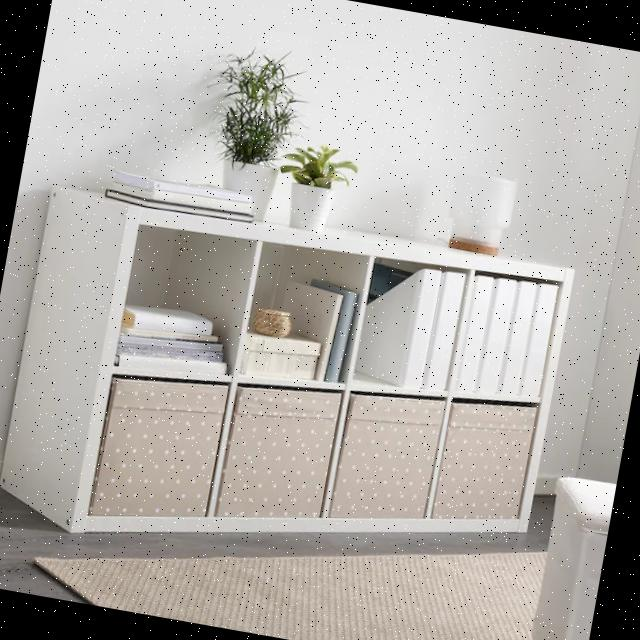Shelf: (0, 166, 584, 622)
